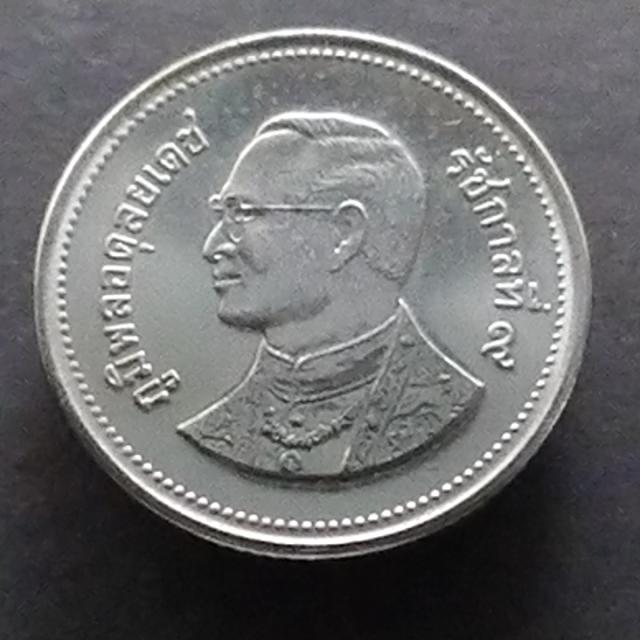2 Bath: (30, 22, 600, 571)
